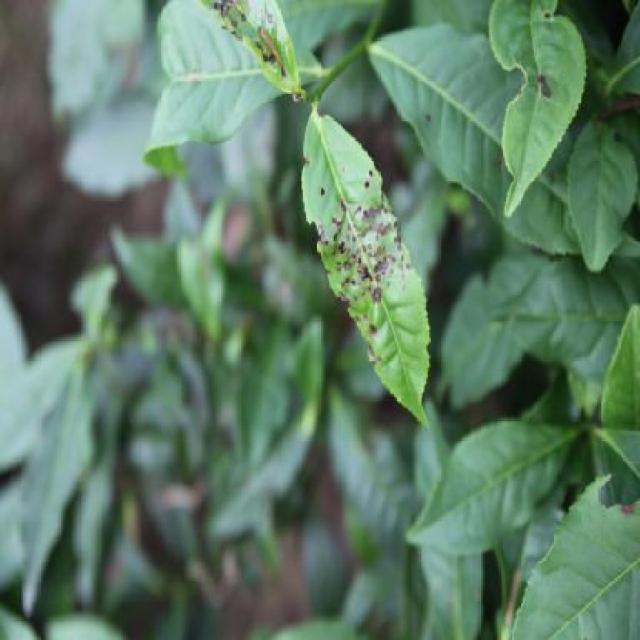Tea Mosquito bug infested leaf: (303, 95, 439, 443)
